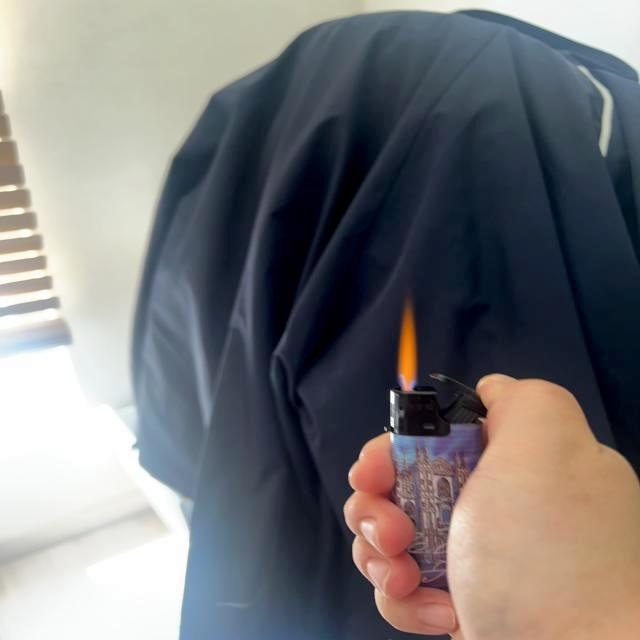fire: (396, 296, 418, 386)
